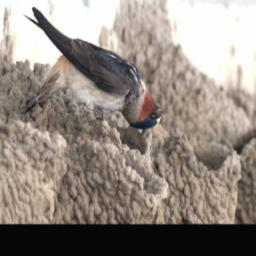Swallow: (19, 6, 170, 131)
